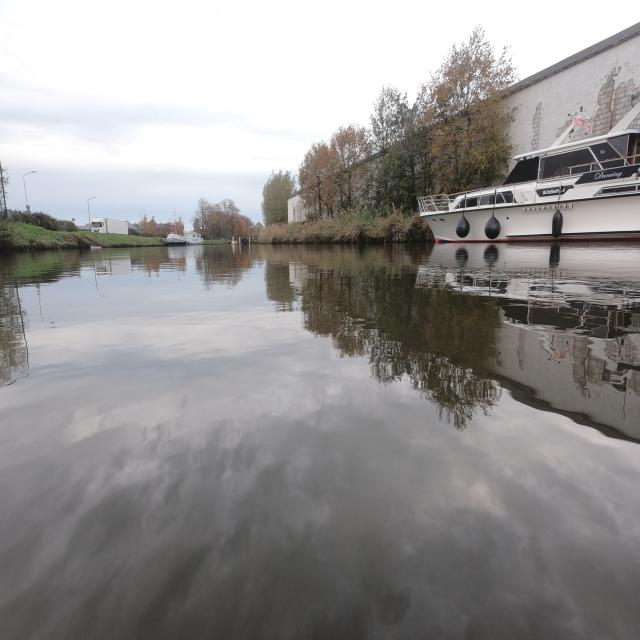boat: (419, 111, 640, 242), (167, 233, 189, 245)
grass: (0, 222, 166, 250)
reed: (258, 205, 433, 243)
sky: (1, 0, 636, 221)
tree: (423, 27, 516, 192), (330, 125, 371, 208), (374, 138, 417, 211), (299, 142, 336, 219)
water: (1, 241, 638, 639)
